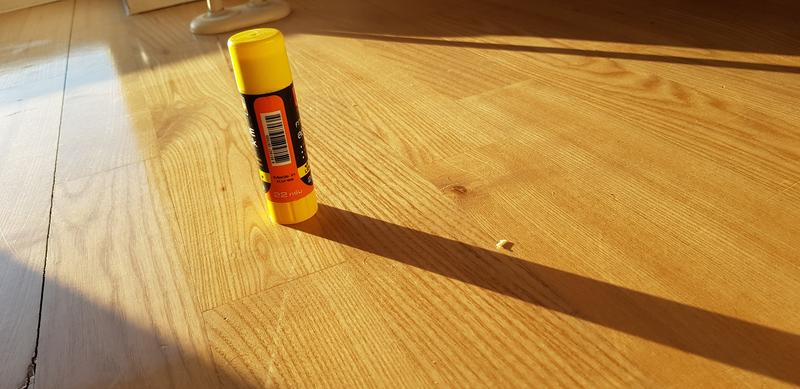Glue-Stick: (222, 24, 329, 232)
